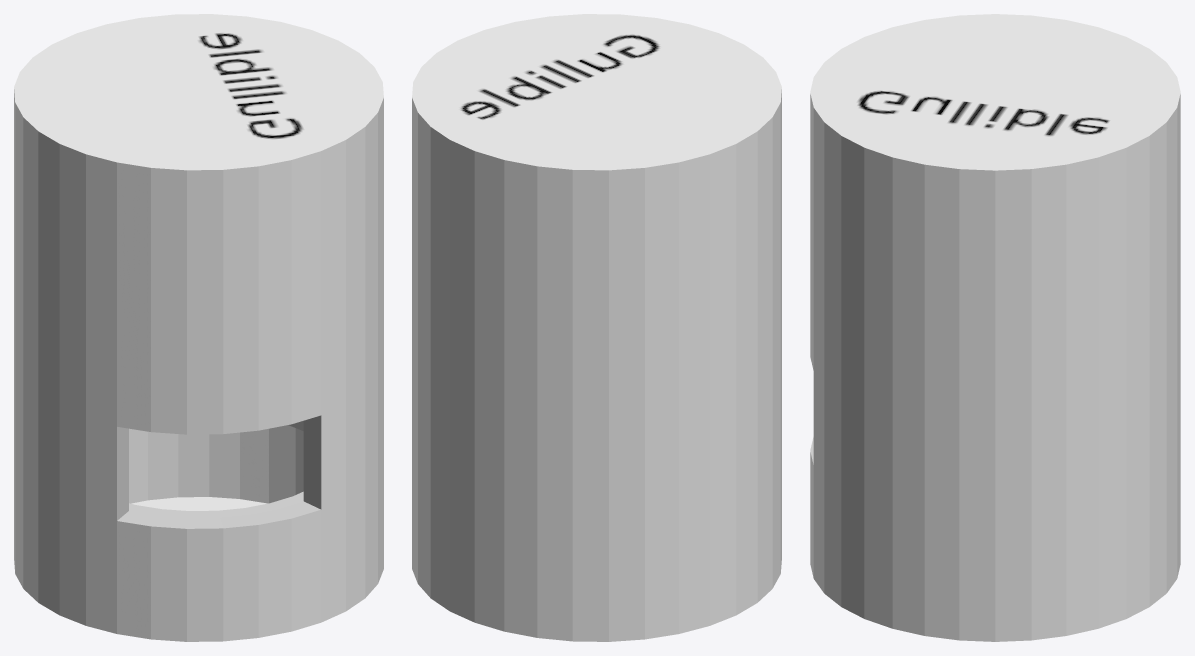
File: ship.obj
3 views of the same model, side by side, from view 1: azimuth 30°, elevation 25°; view 2: azimuth 150°, elevation 25°; view 3: azimuth 270°, elevation 25° (orthographic).
Visible parts, largest first — view 1: Circle.001; view 2: Circle.001; view 3: Circle.001.
Boxes of the visible parts, bbox=[...] form: Circle.001: bbox=[14, 14, 383, 641]; Circle.001: bbox=[412, 14, 781, 641]; Circle.001: bbox=[810, 14, 1180, 641].
Size of the model in its own units: 3 by 4.21 by 3.
1 material, 1 textured.
